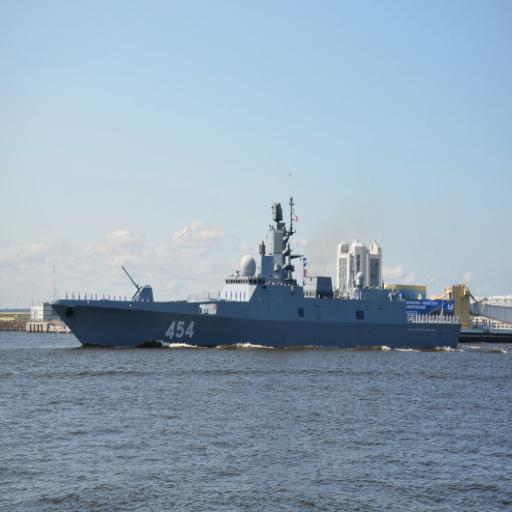Fragata: (51, 193, 464, 351)
